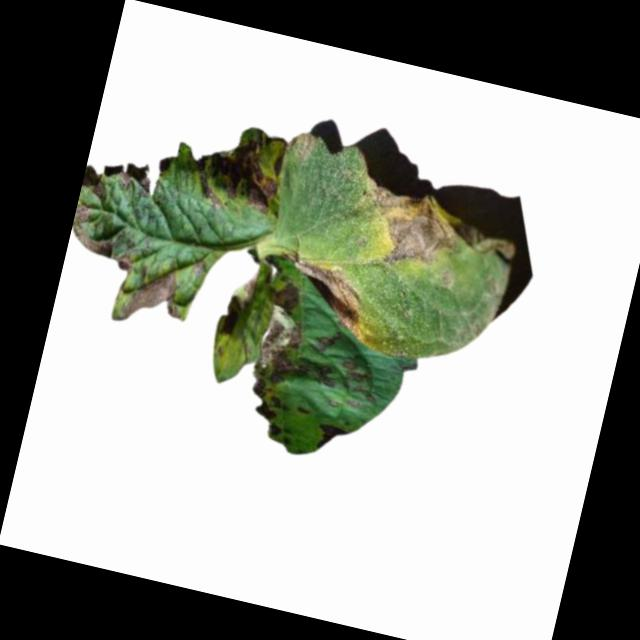Early_blight: (245, 282, 351, 412), (353, 180, 466, 280), (187, 129, 286, 223), (271, 249, 371, 332), (118, 255, 192, 334), (66, 203, 142, 270), (312, 421, 350, 458), (216, 295, 241, 340), (253, 396, 281, 422), (111, 170, 133, 192)
